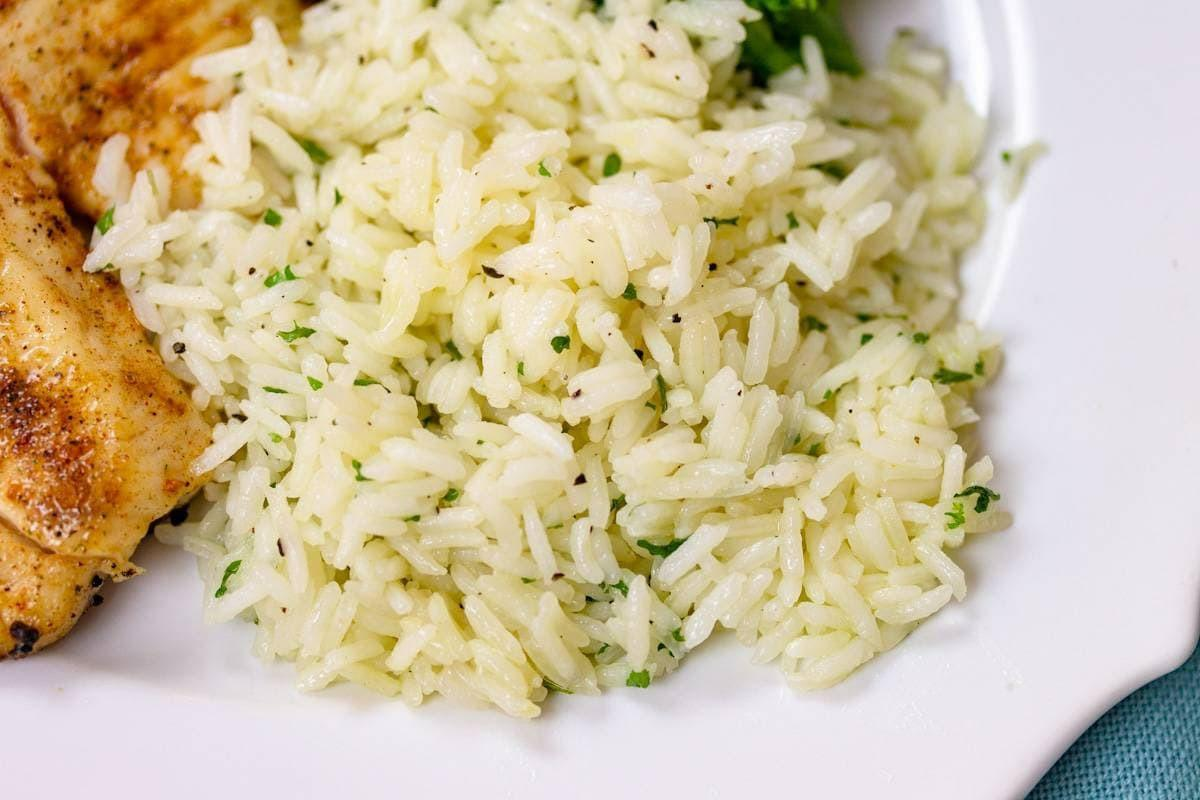WhiteRice: (77, 0, 1018, 729)
